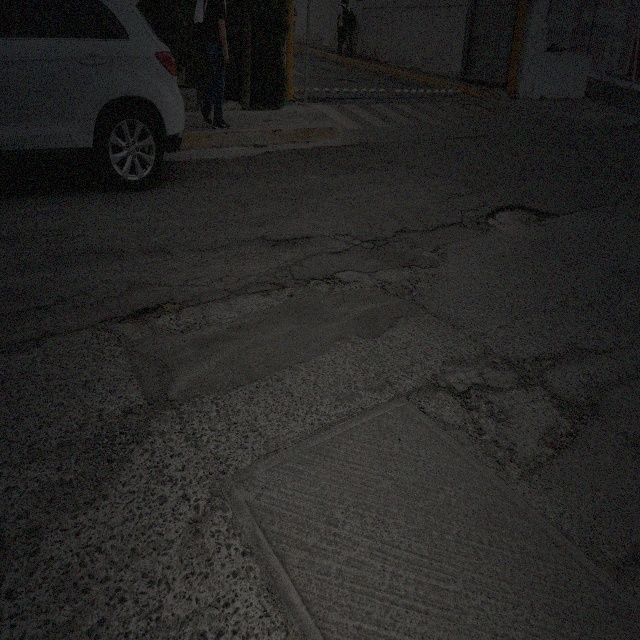pothole: (56, 388, 166, 517), (533, 394, 599, 470), (456, 381, 512, 461), (485, 202, 557, 236), (118, 299, 184, 327), (380, 276, 415, 299), (321, 272, 347, 294)
